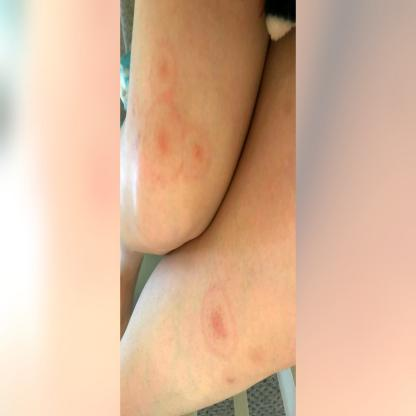Tick: (138, 36, 215, 186), (199, 283, 237, 363)
